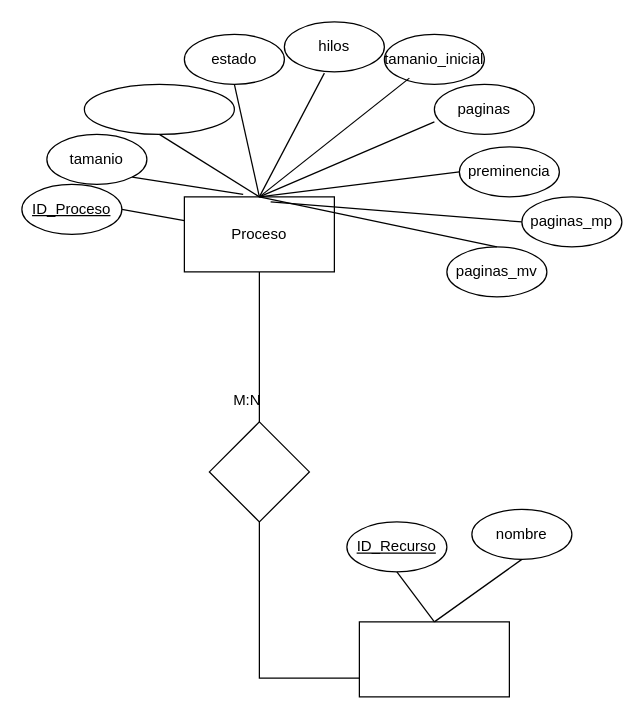
Some shapes in this 644 by 719 pixel diagram are drawn without their labels. Here are the shapes that lost their labels. From the top down, the centre of each, then its label:
[158,108]: recursos_necesarios
[258,471]: Tener
[433,659]: Recurso
